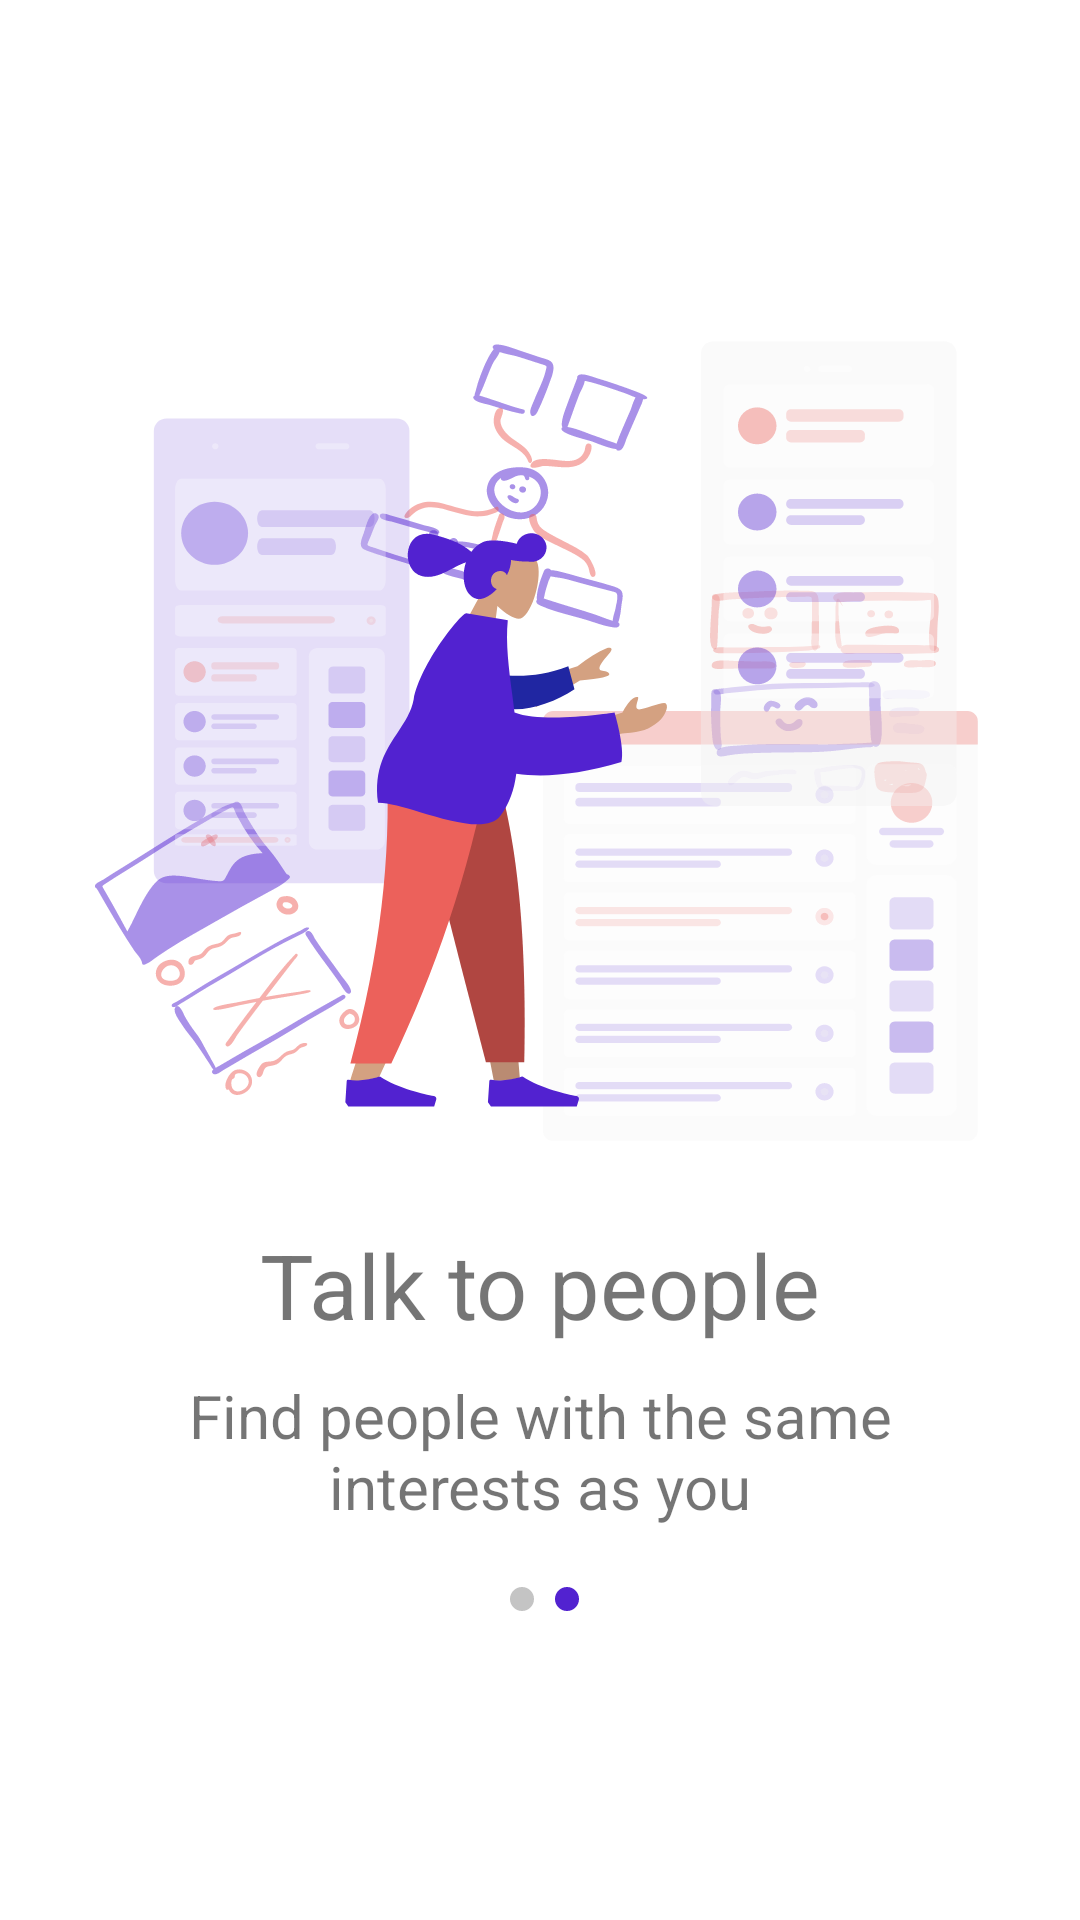

Screen size 1080px×1920px. Icon name, then its center in pixels as (x,y):
navigation two: (544,1599)
